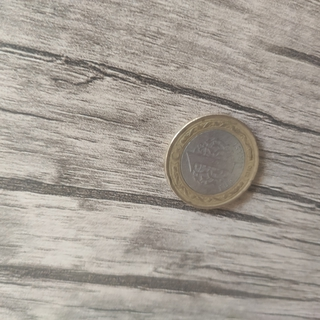1TL: (163, 111, 260, 209)
